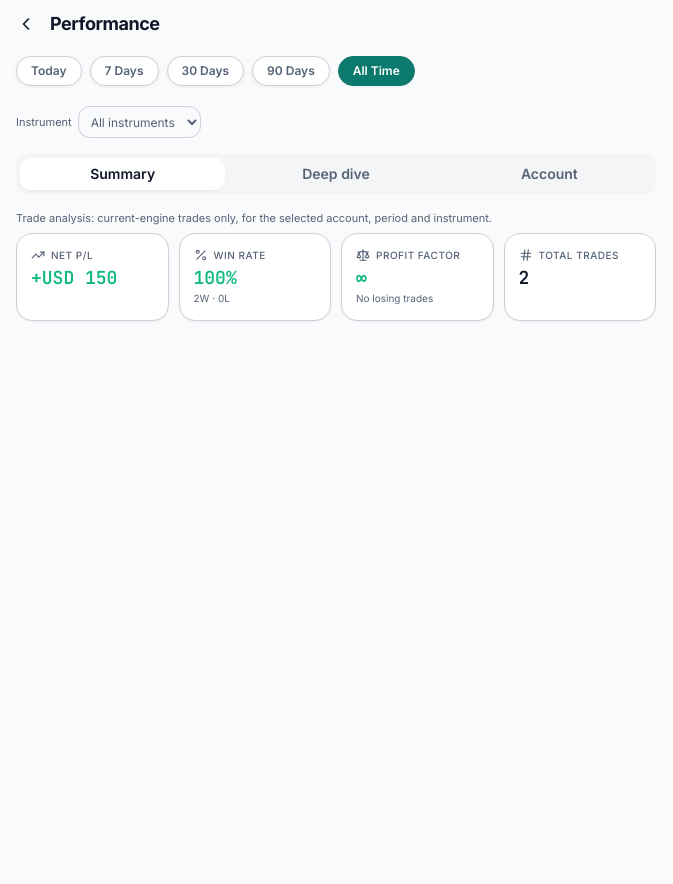
Test: JournalStats — scope labels & filter-reset (review) › Summary trade metrics use the analysis scope (instrument filter reduces Net P/L)
This screenshot has width=673, height=884.
Expected: the text "+USD 150" is shown, [31,266,117,288]
Step 1. Select "GOLD" in the dropdown labelled "Instrument" → (139, 122), box [78,106,201,138]
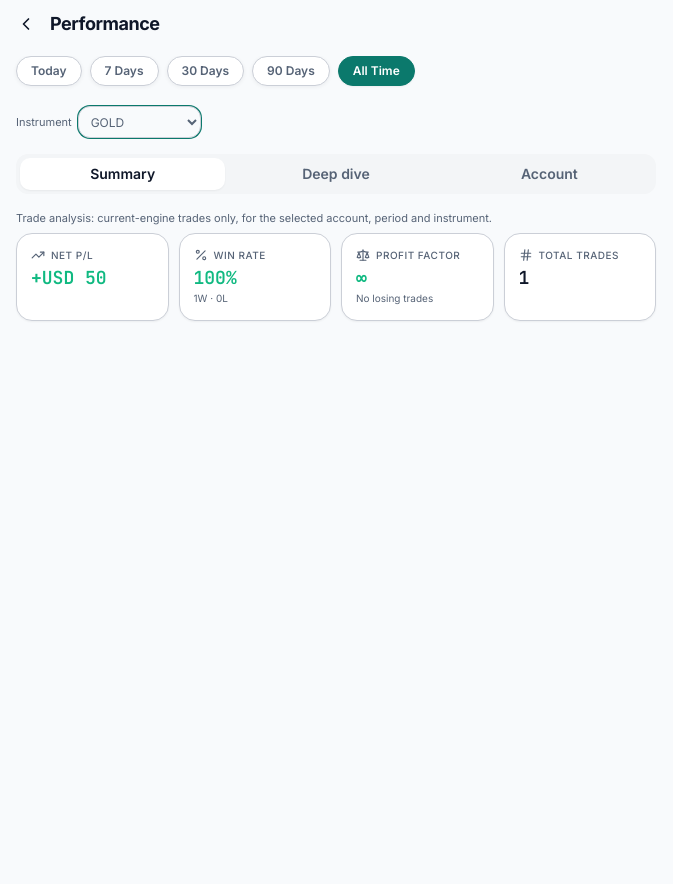
Result: the text "+USD 50" is shown at [31,266,107,288]
Result: the text "+USD 150" is gone
Step 2. Click the button "Account" → click(549, 174), box [447,158,652,190]
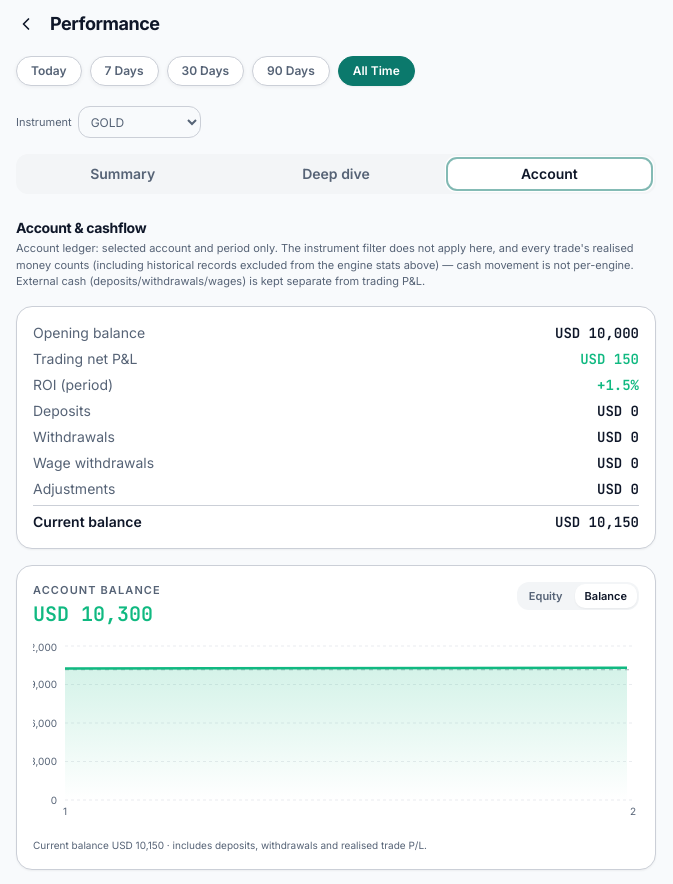
Result: the text "Trading net P&L" reads "Trading net P&L USD 150" at [580,350,639,368]
